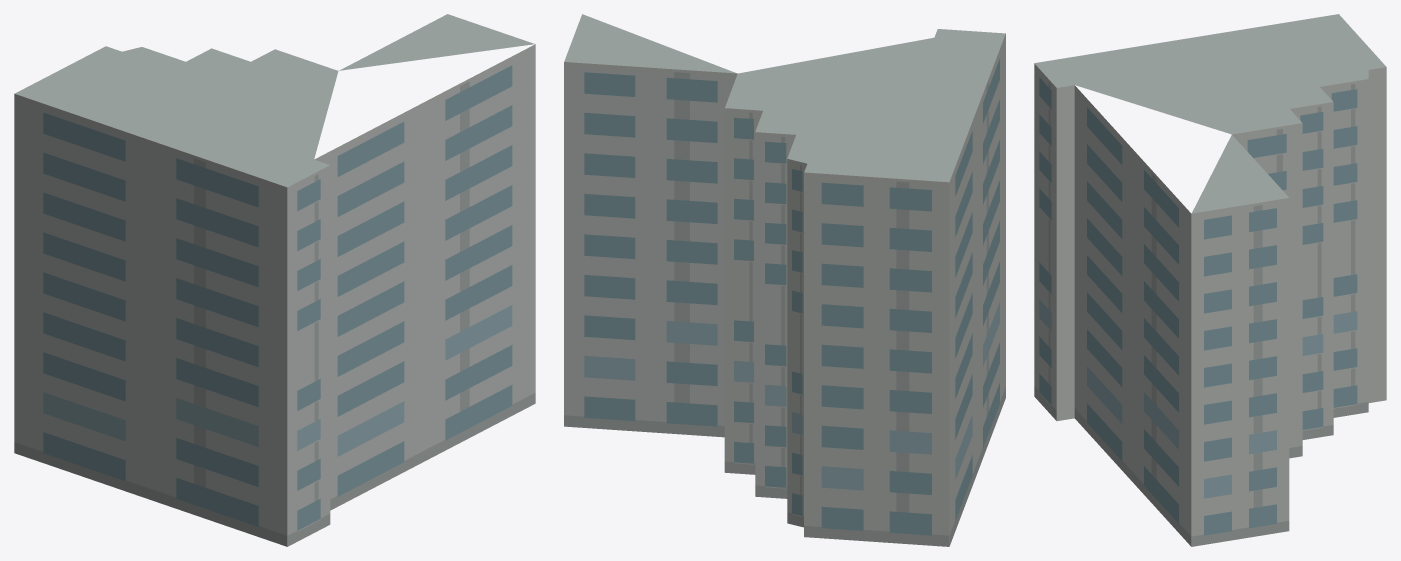
The model's file is residential-0b0a789c-8205-46b1-834a-ed88bcb791e7.glb.
3 views of the same model, side by side, from view 1: azimuth 30°, elevation 25°; view 2: azimuth 150°, elevation 25°; view 3: azimuth 270°, elevation 25° (orthographic). The views are drawn at different scales.
Parts seen in each view (by area): view 1: residential-0b0a789c-8205-46b1-834a-ed88bcb791e7.tmp; view 2: residential-0b0a789c-8205-46b1-834a-ed88bcb791e7.tmp; view 3: residential-0b0a789c-8205-46b1-834a-ed88bcb791e7.tmp.
Boxes of the visible parts, x1=… form: residential-0b0a789c-8205-46b1-834a-ed88bcb791e7.tmp: x1=14, y1=14, x2=535, y2=546; residential-0b0a789c-8205-46b1-834a-ed88bcb791e7.tmp: x1=564, y1=14, x2=1005, y2=546; residential-0b0a789c-8205-46b1-834a-ed88bcb791e7.tmp: x1=1034, y1=14, x2=1386, y2=546.
Size of the model in its own units: 39.86 by 31 by 29.73.
